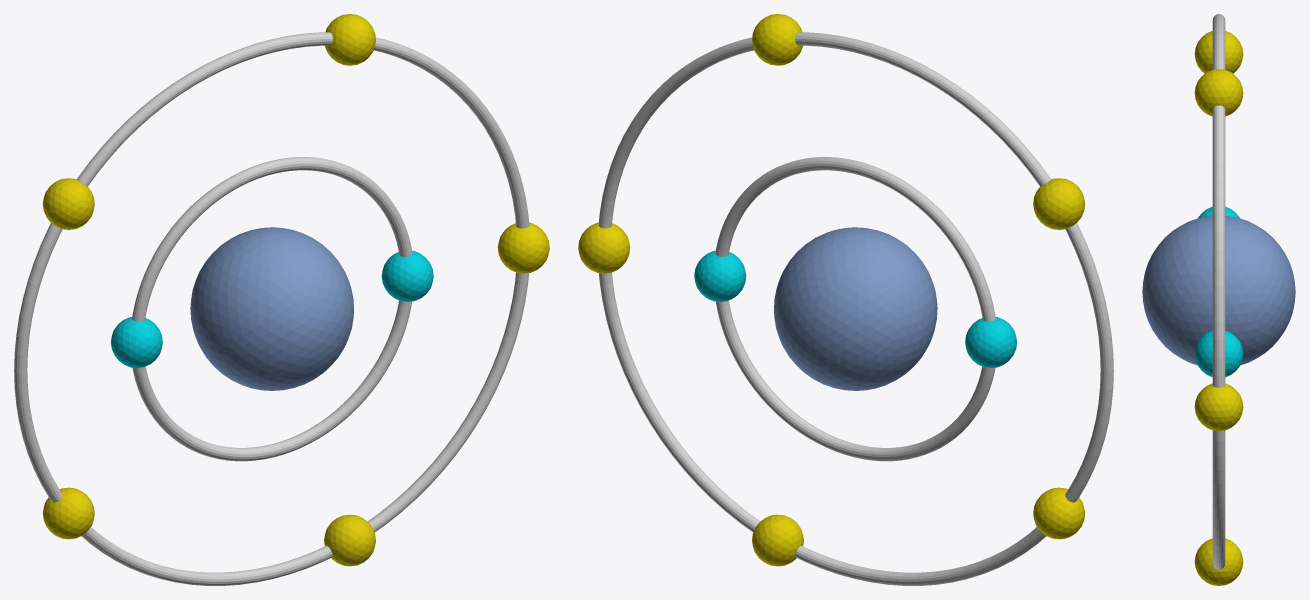
The picture shows the model from 3 angles, left to right: view 1: azimuth 30°, elevation 25°; view 2: azimuth 150°, elevation 25°; view 3: azimuth 270°, elevation 25°; orthographic projection. The views are drawn at different scales.
Visible parts, largest first — view 1: Nucleo_N, Camada_2, Camada_1, e2_3, e2_5, e1_2, e2_1, e1_1, e2_2, e2_4; view 2: Nucleo_N, Camada_2, Camada_1, e2_3, e2_5, e1_2, e2_1, e1_1, e2_2, e2_4; view 3: Nucleo_N, Camada_2, e2_1, e2_2, e2_5, e1_1, e2_3.
Boxes of the visible parts, left/top/right/bottom form: Nucleo_N: left=190, top=227, right=353, bottom=390; Camada_2: left=14, top=32, right=529, bottom=585; Camada_1: left=132, top=157, right=412, bottom=461; e2_3: left=42, top=178, right=94, bottom=229; e2_5: left=324, top=514, right=375, bottom=566; e1_2: left=111, top=317, right=162, bottom=367; e2_1: left=497, top=222, right=549, bottom=273; e1_1: left=381, top=250, right=433, bottom=301; e2_2: left=325, top=14, right=375, bottom=65; e2_4: left=42, top=487, right=94, bottom=539; Nucleo_N: left=774, top=227, right=937, bottom=390; Camada_2: left=598, top=32, right=1113, bottom=585; Camada_1: left=715, top=157, right=995, bottom=461; e2_3: left=1033, top=178, right=1085, bottom=229; e2_5: left=752, top=514, right=803, bottom=566; e1_2: left=965, top=317, right=1016, bottom=367; e2_1: left=578, top=222, right=630, bottom=273; e1_1: left=694, top=250, right=746, bottom=301; e2_2: left=752, top=14, right=802, bottom=65; e2_4: left=1033, top=487, right=1085, bottom=539; Nucleo_N: left=1142, top=216, right=1295, bottom=365; Camada_2: left=1212, top=14, right=1225, bottom=569; e2_1: left=1194, top=383, right=1243, bottom=430; e2_2: left=1194, top=69, right=1243, bottom=116; e2_5: left=1194, top=538, right=1243, bottom=585; e1_1: left=1194, top=330, right=1243, bottom=377; e2_3: left=1194, top=31, right=1243, bottom=73.
Bounding box in the file's own units: 1.65 × 1.62 × 0.44.
